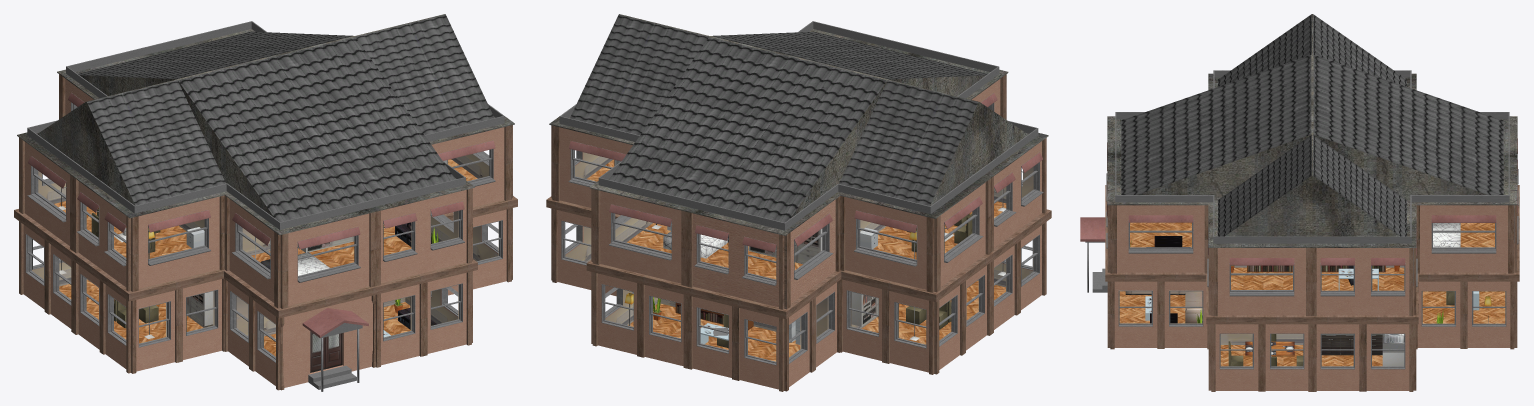
The model's file is Building_2stores_House.obj.
3 renders of one model, left to right at view 1: azimuth 30°, elevation 25°; view 2: azimuth 150°, elevation 25°; view 3: azimuth 270°, elevation 25°, orthographic. The views are drawn at different scales.
Parts seen in each view (by area): view 1: Building_2stores_House; view 2: Building_2stores_House; view 3: Building_2stores_House.
Part boxes in pixels (x1,y1,x2,y2): Building_2stores_House: [14, 14, 517, 391]; Building_2stores_House: [546, 14, 1051, 391]; Building_2stores_House: [1080, 14, 1519, 391].
Bounding box in the file's own units: 5.38 × 3.02 × 5.71.
Materials: 12 (12 with a texture image).
